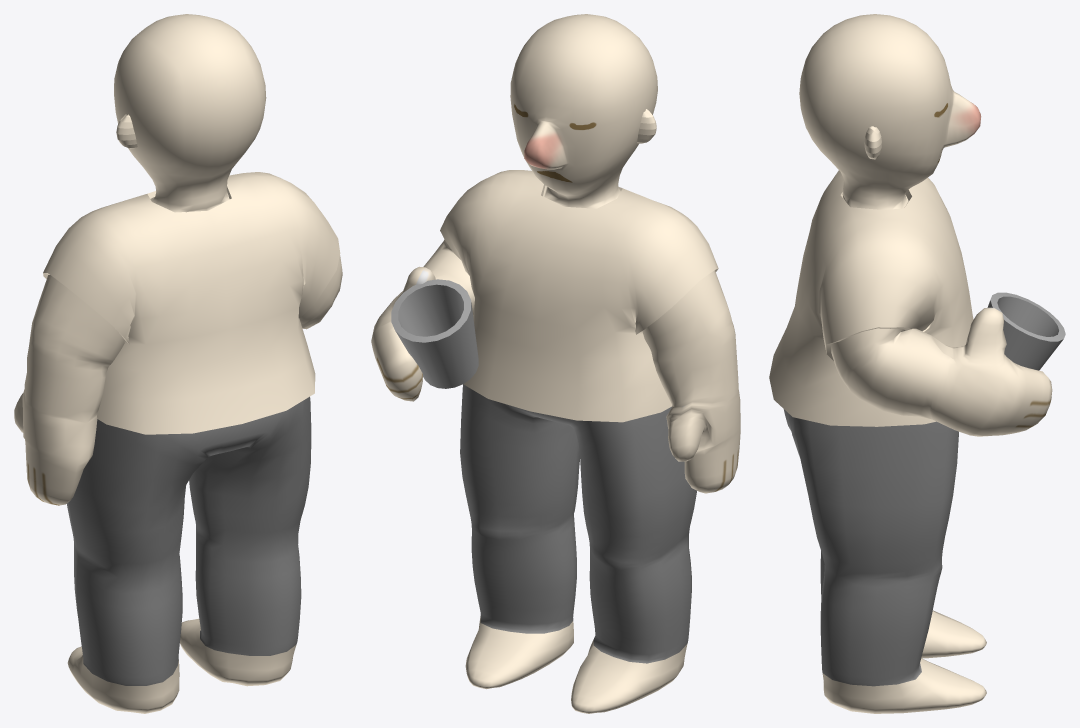
File: standing_person_v1.fbx
The picture shows the model from 3 angles, left to right: view 1: azimuth 30°, elevation 25°; view 2: azimuth 150°, elevation 25°; view 3: azimuth 270°, elevation 25°; orthographic projection. The views are drawn at different scales.
Parts seen in each view (by area): view 1: person, shirrt; view 2: person, shirrt, cup; view 3: person, shirrt, cup.
Boxes of the visible parts, <box> form: person: <box>14,14,342,713</box>; shirrt: <box>43,172,340,434</box>; person: <box>371,14,740,713</box>; shirrt: <box>440,170,718,422</box>; cup: <box>391,279,478,388</box>; person: <box>783,14,1052,713</box>; shirrt: <box>769,170,973,426</box>; cup: <box>987,292,1065,370</box>.
Size of the model in its own units: 0.9878 by 1.99 by 0.821.
Materials: 2 (1 with a texture image).
